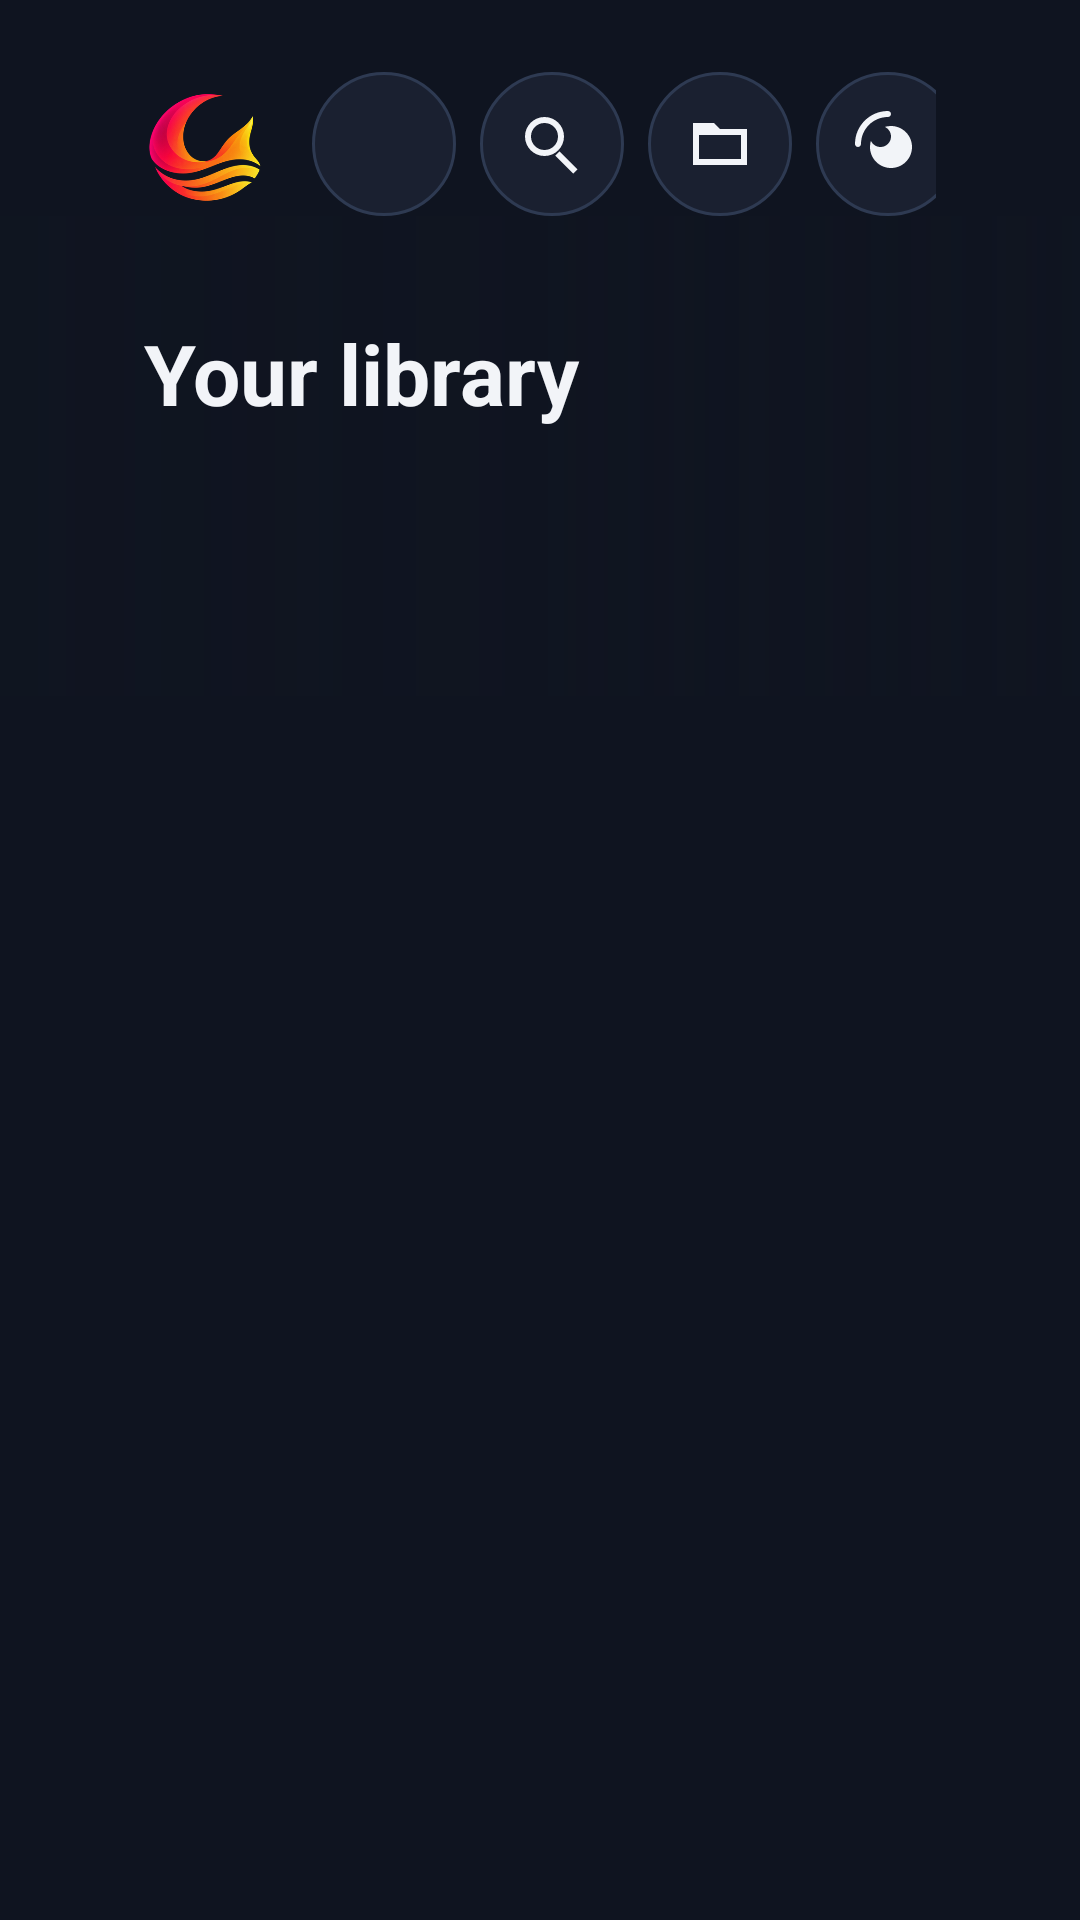

Icons on this 1080×1920 Android screen, each with the point to tap as [x,y]:
Libraries: [720,144]
Search: [552,144]
